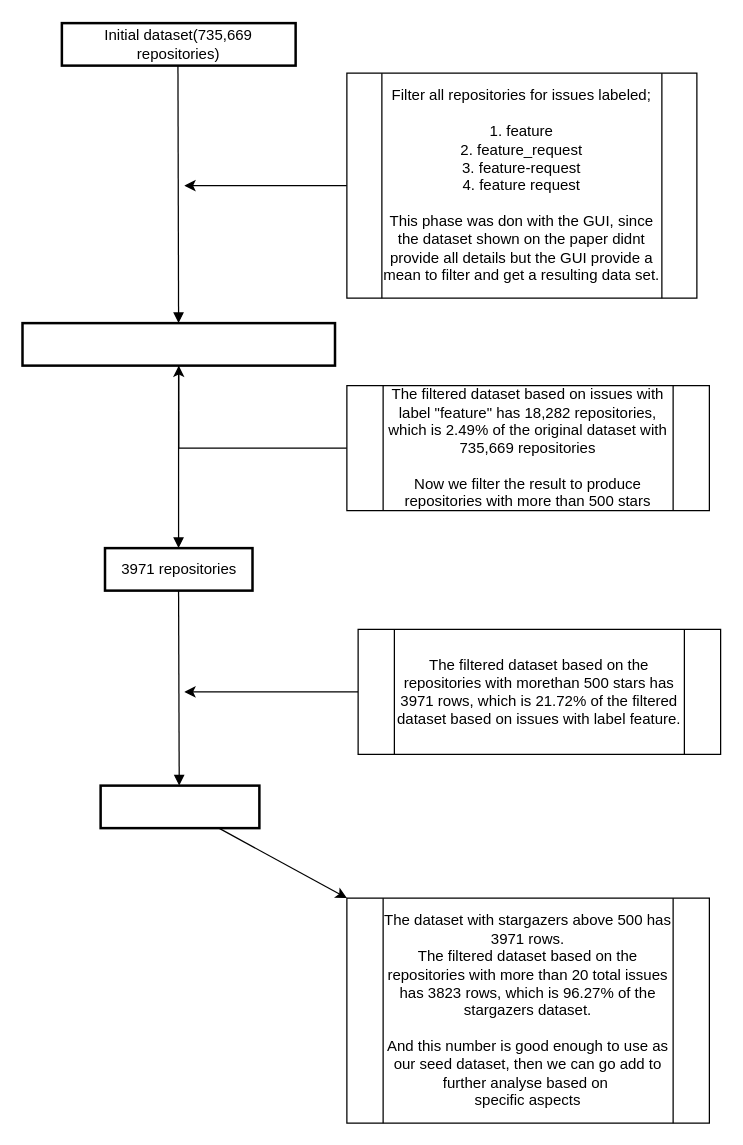
Some shapes in this 743 by 1145 pixel diagram are drawn without their labels. Each missing label, with the centre of its shape:
"18282 repositories" goes at point 178,343.
"3823 repositories" goes at point 179,806.
